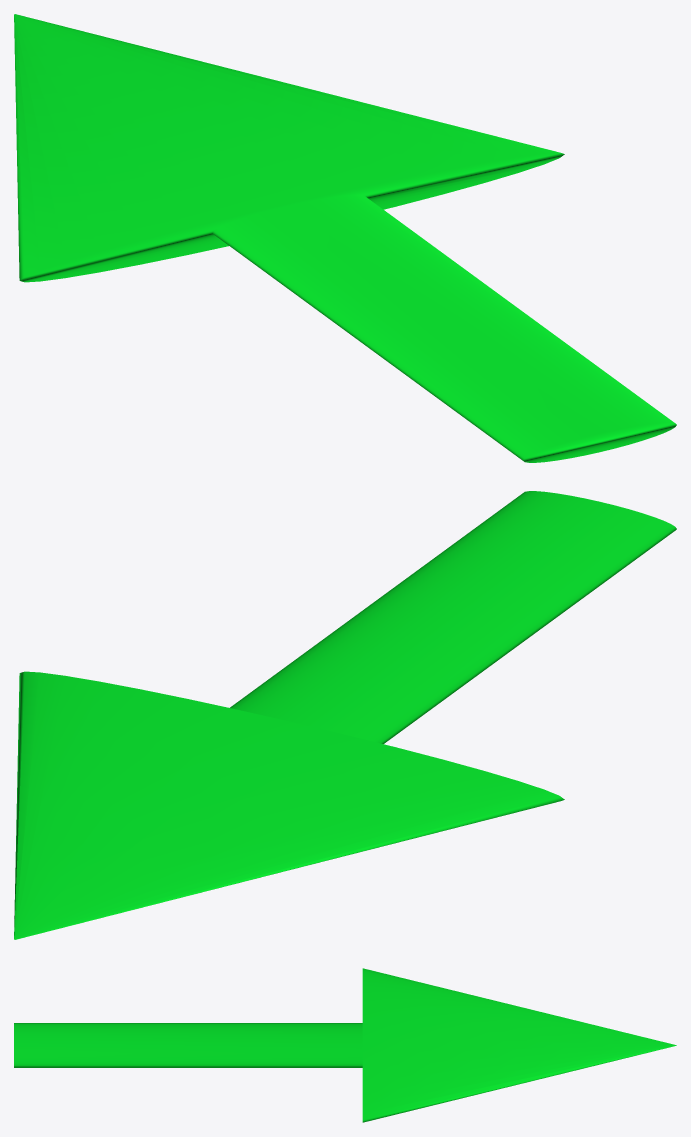
The model's file is arrow_forward.glb.
3 renders of one model, top to bottom at view 1: azimuth 30°, elevation 25°; view 2: azimuth 150°, elevation 25°; view 3: azimuth 270°, elevation 25°, orthographic. The views are drawn at different scales.
Visible parts, largest first — view 1: Cylinder; view 2: Cylinder; view 3: Cylinder.
Part boxes in pixels (box(x1,y1,x2,y2)): Cylinder: box(14, 14, 676, 462); Cylinder: box(14, 491, 676, 939); Cylinder: box(14, 968, 676, 1122).
Bounding box in the file's own units: 1.02 × 0.0526 × 1.89.
